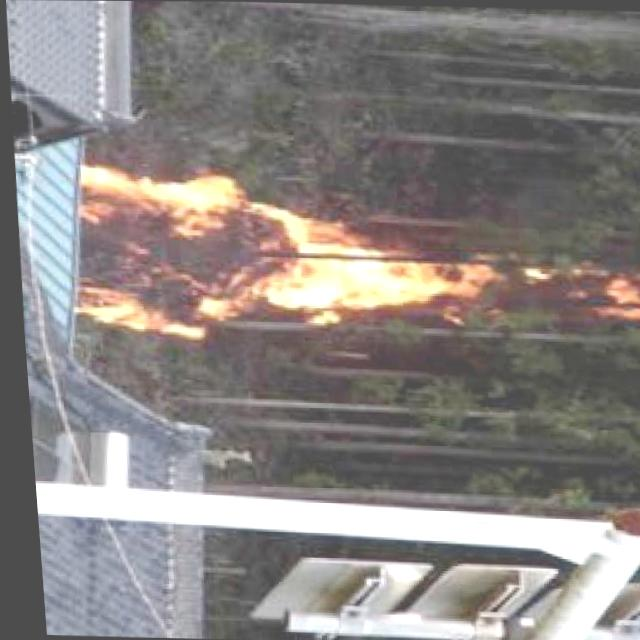helmet: (63, 167, 483, 349), (564, 256, 640, 328)
